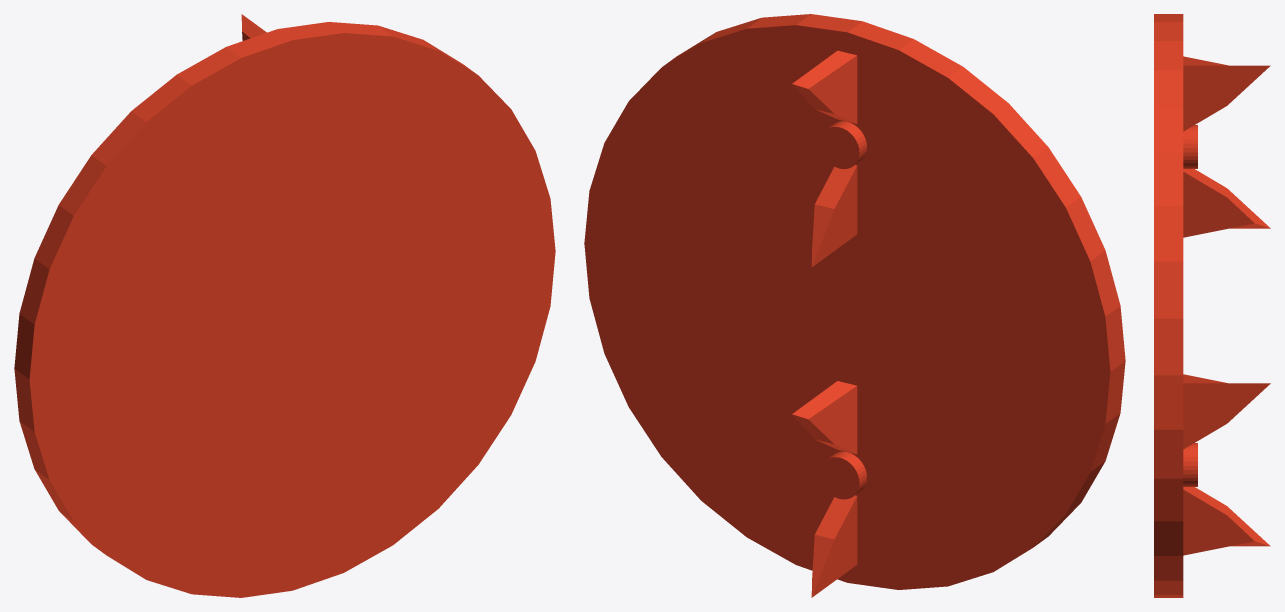
Rendered from Disposal.gltf.
The picture shows the model from 3 angles, left to right: view 1: azimuth 30°, elevation 25°; view 2: azimuth 150°, elevation 25°; view 3: azimuth 270°, elevation 25°; orthographic projection. The views are drawn at different scales.
Visible parts, largest first — view 1: Cylinder; view 2: Cylinder, Cube, Cylinder.001; view 3: Cylinder, Cube, Cylinder.001.
Boxes of the visible parts, x1,y1,x2,y2 form: Cylinder: [14, 22, 555, 597]; Cylinder: [584, 14, 1125, 589]; Cube: [792, 50, 857, 597]; Cylinder.001: [820, 121, 866, 499]; Cylinder: [1154, 14, 1183, 597]; Cube: [1183, 56, 1270, 555]; Cylinder.001: [1183, 125, 1197, 486].
Size of the model in its own units: 2 by 2 by 0.4.
